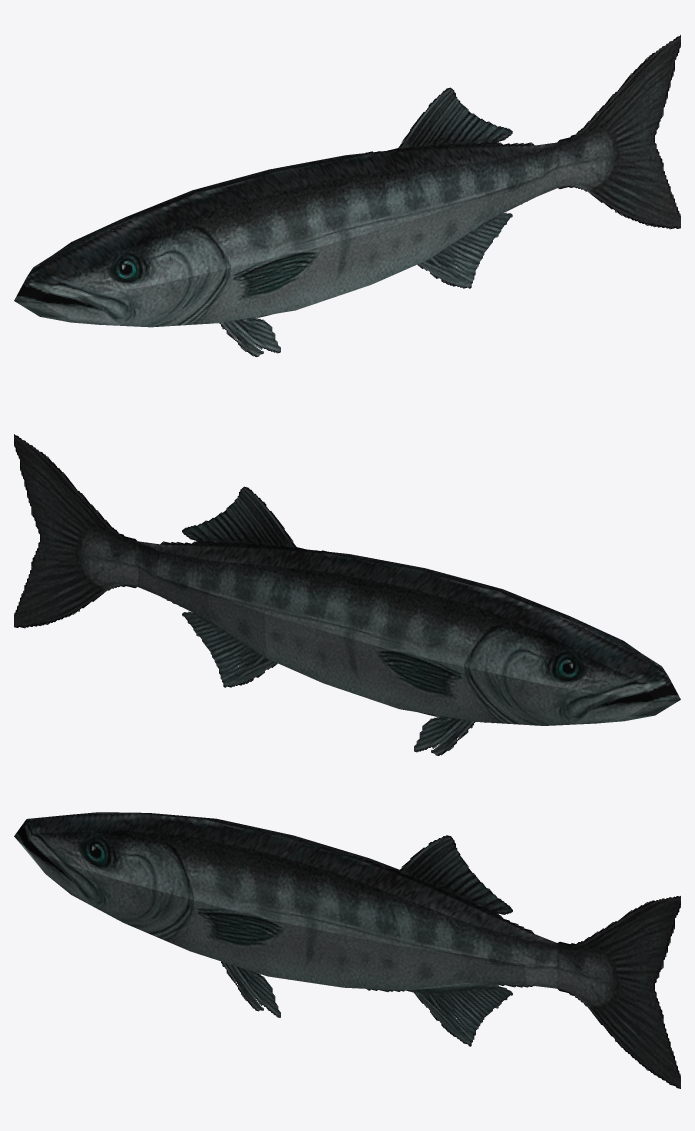
Rendered from Gloomtail.fbx.
3 views of the same model, one above another, from view 1: azimuth 30°, elevation 25°; view 2: azimuth 150°, elevation 25°; view 3: azimuth 330°, elevation 25° (orthographic).
Visible parts, largest first — view 1: Barracuda; view 2: Barracuda; view 3: Barracuda.
Part boxes in pixels (x1,y1,x2,y2): Barracuda: (14, 35, 680, 356); Barracuda: (14, 434, 680, 755); Barracuda: (14, 812, 680, 1088).
Size of the model in its own units: 210 by 82.1 by 20.3.
Materials: 1 (1 with a texture image).
